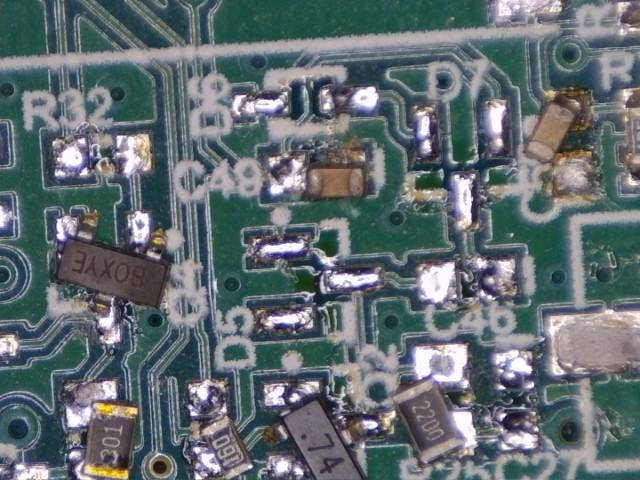pcb_defect: (55, 209, 172, 345), (261, 381, 393, 480), (390, 342, 475, 466), (524, 91, 596, 197), (64, 379, 138, 480), (189, 381, 254, 480), (262, 148, 369, 198)
